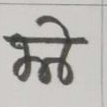i_matra: (50, 16, 76, 83)
